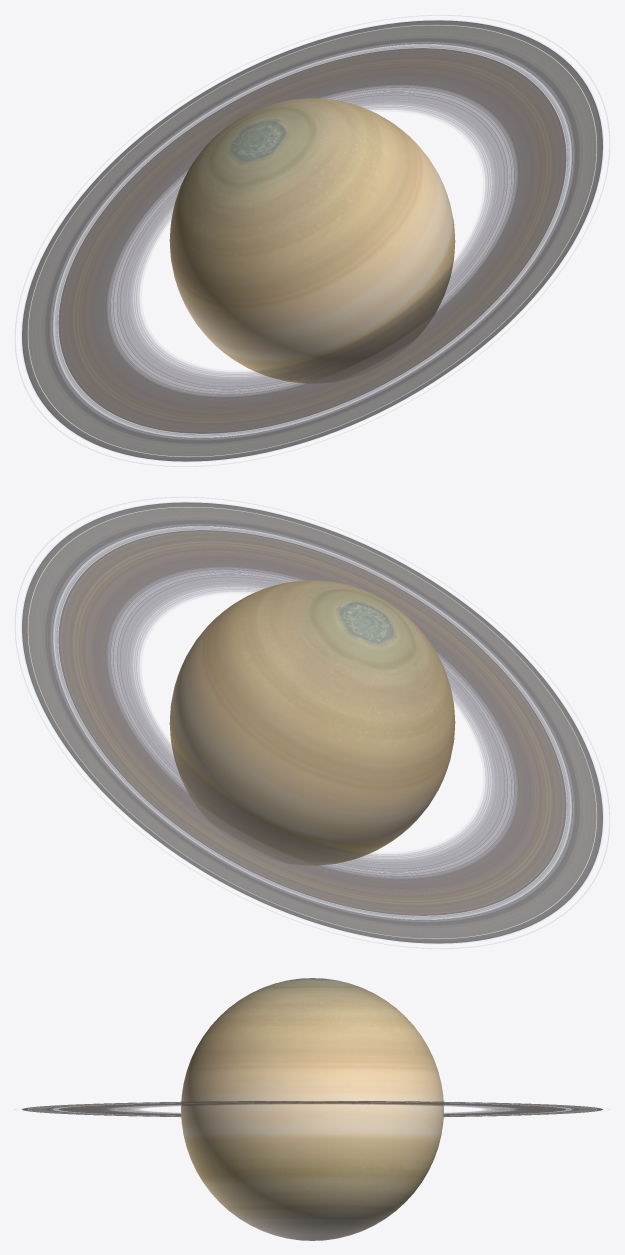
File: saturn.glb
3 renders of one model, top to bottom at view 1: azimuth 30°, elevation 25°; view 2: azimuth 150°, elevation 25°; view 3: azimuth 270°, elevation 25°, orthographic. The views are drawn at different scales.
Parts seen in each view (by area): view 1: rings, saturn; view 2: rings, saturn; view 3: saturn, rings.
Part boxes in pixels (x1,y1,x2,y2): rings: (22,20,602,461); saturn: (169,98,455,383); rings: (22,502,602,943); saturn: (169,580,455,865); saturn: (181,978,443,1240); rings: (22,1101,602,1117).
Bounding box in the file's own units: 0.6084 × 0.306 × 0.681.
2 materials, 2 textured.
